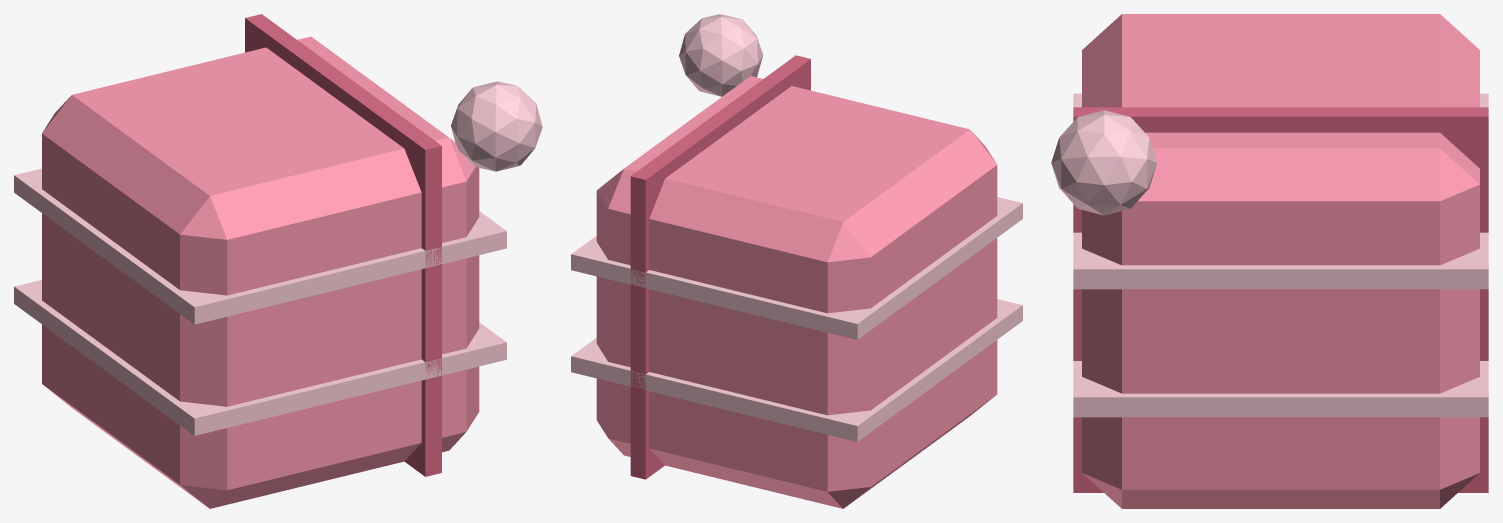
File: yarn_block.glb
The picture shows the model from 3 angles, left to right: view 1: azimuth 30°, elevation 25°; view 2: azimuth 150°, elevation 25°; view 3: azimuth 270°, elevation 25°; orthographic projection. The views are drawn at different scales.
Visible parts, largest first — view 1: yarn_block; view 2: yarn_block; view 3: yarn_block.
Boxes of the visible parts, x1=… form: yarn_block: x1=14, y1=14, x2=542, y2=508; yarn_block: x1=571, y1=14, x2=1022, y2=508; yarn_block: x1=1051, y1=14, x2=1488, y2=508.
Size of the model in its own units: 1.07 by 1.04 by 0.99.
